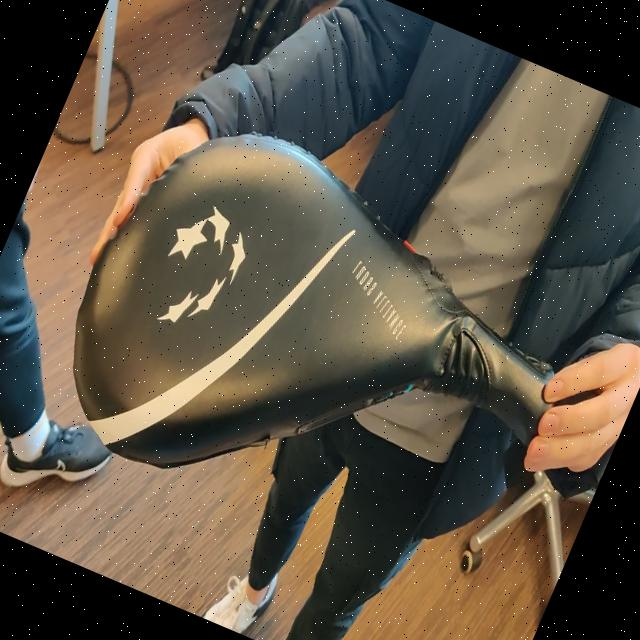paddle: (76, 135, 563, 467)
